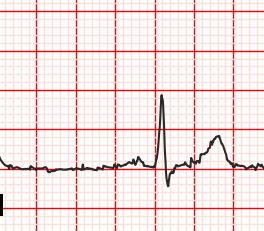ST Depression: (149, 162, 180, 191)
